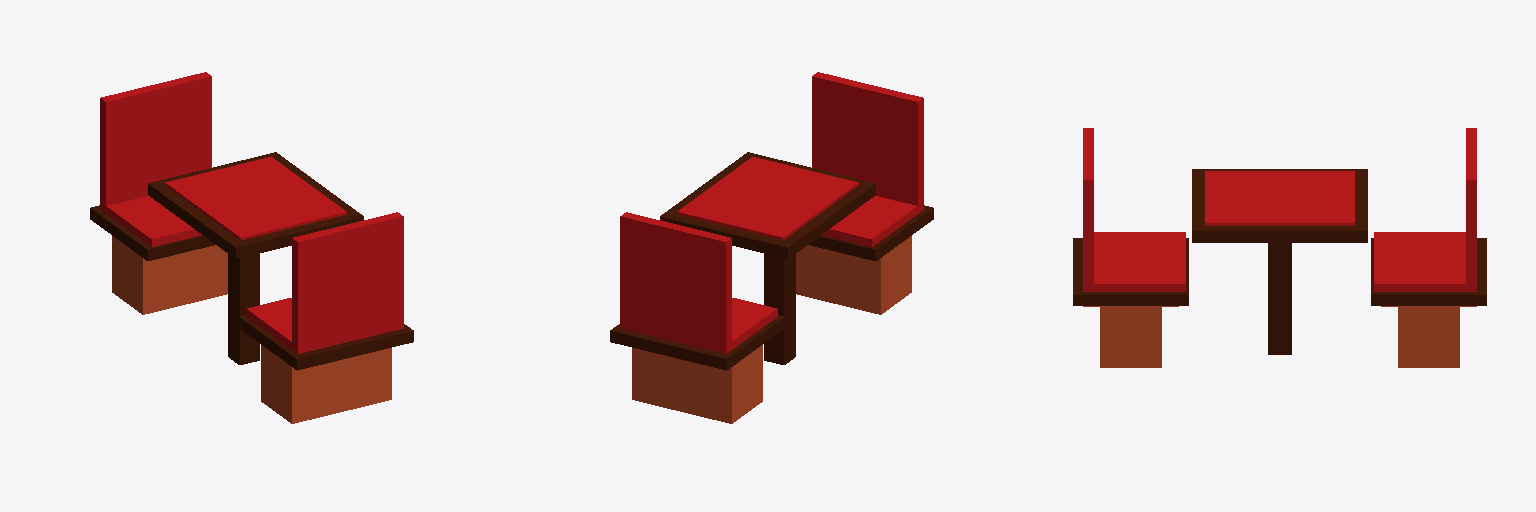
File: simpleTable.obj
3 renders of one model, left to right at view 1: azimuth 30°, elevation 25°; view 2: azimuth 150°, elevation 25°; view 3: azimuth 270°, elevation 25°, orthographic.
Parts seen in each view (by area): view 1: Booth1.002_Cube.011; view 2: Booth1.002_Cube.011; view 3: Booth1.002_Cube.011.
Part boxes in pixels (left/top/right/bottom): Booth1.002_Cube.011: left=90, top=72, right=413, bottom=423; Booth1.002_Cube.011: left=610, top=72, right=933, bottom=423; Booth1.002_Cube.011: left=1073, top=128, right=1486, bottom=367.
Size of the model in its own units: 0.3154 by 0.4689 by 0.8806.